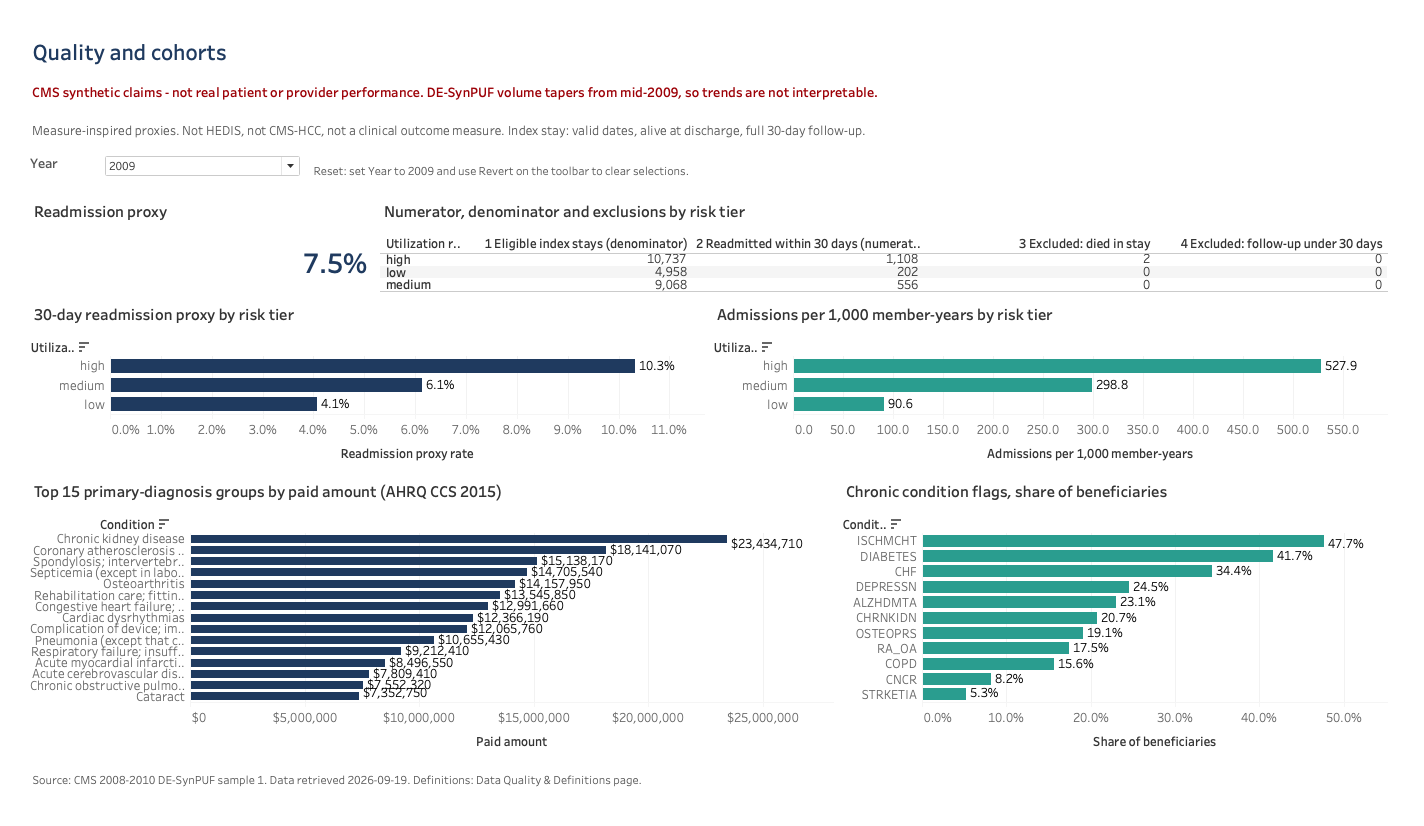

Layout of this report page (visuals, bound fields, positions):
{"tool":"tableau","page":{"name":"Quality & Cohorts","canvas":[1366,768],"ordinal":3},"visuals":[{"type":"text","box":[0,0,1366,59.1]},{"type":"text","box":[0,59.1,1366,29.5]},{"type":"text","box":[0,88.6,1366,29.5]},{"type":"parameter","param":"[Parameters].[year_param]","box":[0,118.2,273.2,44.3]},{"type":"text","box":[273.2,118.2,1092.8,44.3]},{"type":"worksheet","title":"KPI Readmission proxy rate","mark":"Text","box":[0,162.5,341.5,103.4]},{"type":"worksheet","title":"Readmission numerator and denominator","mark":"Text","rows":["utilization_risk_tier"],"cols":["stay_measure"],"box":[341.5,162.5,1024.5,103.4]},{"type":"worksheet","title":"Readmission proxy by tier","mark":"Bar","rows":["utilization_risk_tier"],"cols":["readmission_proxy"],"box":[0,265.9,683,177.2]},{"type":"worksheet","title":"Risk tier admissions per 1,000","mark":"Bar","rows":["utilization_risk_tier"],"cols":["admissions_per_1000_member_years"],"box":[683,265.9,683,177.2]},{"type":"worksheet","title":"Top conditions by paid amount","mark":"Bar","rows":["condition_name"],"cols":["payment_amount"],"box":[0,443.1,819.6,295.4]},{"type":"worksheet","title":"Chronic condition prevalence","mark":"Bar","rows":["condition_name"],"cols":["prevalence"],"box":[819.6,443.1,546.4,295.4]},{"type":"text","box":[0,738.5,1366,29.5]}]}

Visuals, with their boxes on the page's 1366x768 design canvas (x1, y1, x2, y2). These are canvas units, not pixel positions in the 1424x826 screenshot, which may show the page scaled, cropped or inside an application window:
text: x1=0, y1=0, x2=1366, y2=59
text: x1=0, y1=59, x2=1366, y2=89
text: x1=0, y1=89, x2=1366, y2=118
parameter: x1=0, y1=118, x2=273, y2=162
text: x1=273, y1=118, x2=1366, y2=162
"KPI Readmission proxy rate" worksheet (Text marks): x1=0, y1=162, x2=342, y2=266
"Readmission numerator and denominator" worksheet (Text marks): x1=342, y1=162, x2=1366, y2=266
"Readmission proxy by tier" worksheet (Bar marks): x1=0, y1=266, x2=683, y2=443
"Risk tier admissions per 1,000" worksheet (Bar marks): x1=683, y1=266, x2=1366, y2=443
"Top conditions by paid amount" worksheet (Bar marks): x1=0, y1=443, x2=820, y2=738
"Chronic condition prevalence" worksheet (Bar marks): x1=820, y1=443, x2=1366, y2=738
text: x1=0, y1=738, x2=1366, y2=768
